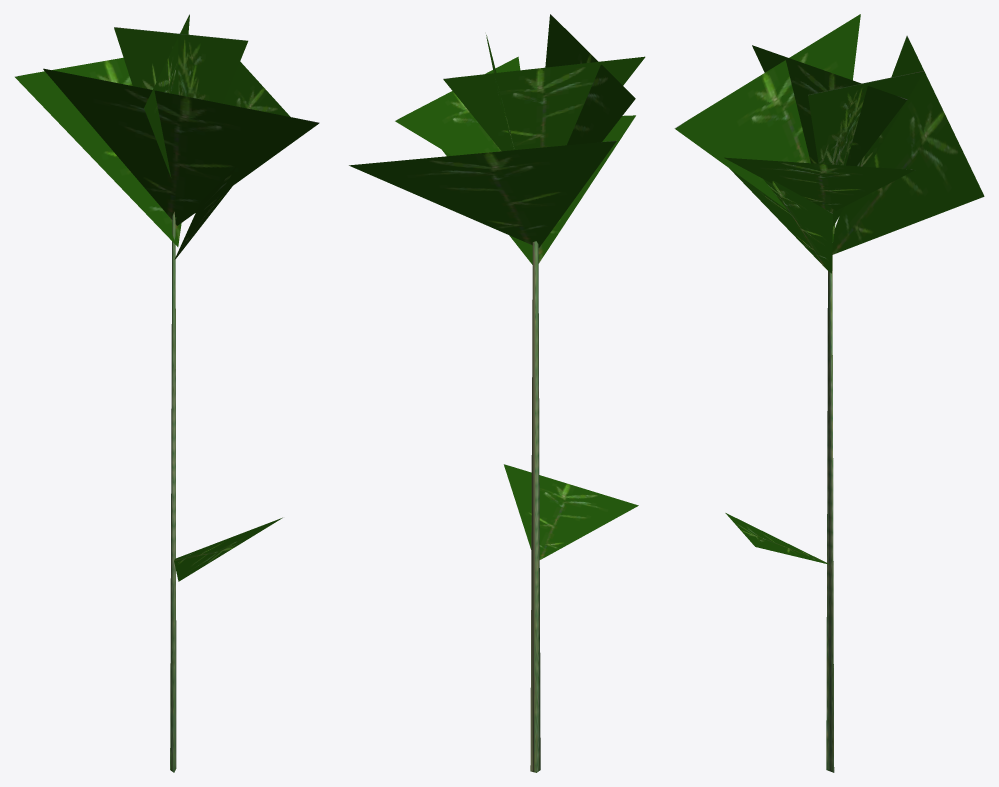
File: leaf_bamboo_med_l2.fbx
The picture shows the model from 3 angles, left to right: view 1: azimuth 30°, elevation 25°; view 2: azimuth 150°, elevation 25°; view 3: azimuth 270°, elevation 25°; orthographic projection. The views are drawn at different scales.
Visible parts, largest first — view 1: mesh_node; view 2: mesh_node; view 3: mesh_node.
Part boxes in pixels (x1,y1,x2,y2): mesh_node: [14, 14, 319, 772]; mesh_node: [349, 14, 645, 772]; mesh_node: [674, 14, 984, 772].
Bounding box in the file's own units: 4.52 × 13.23 × 5.27.
Materials: 2 (2 with a texture image).
